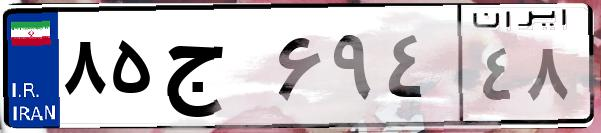4: (385, 28, 445, 110), (475, 38, 525, 113)
5: (110, 28, 158, 98)
6: (270, 28, 330, 110)
8: (57, 26, 110, 100), (525, 38, 570, 115)
9: (330, 28, 385, 110)
ج: (158, 20, 270, 120)
